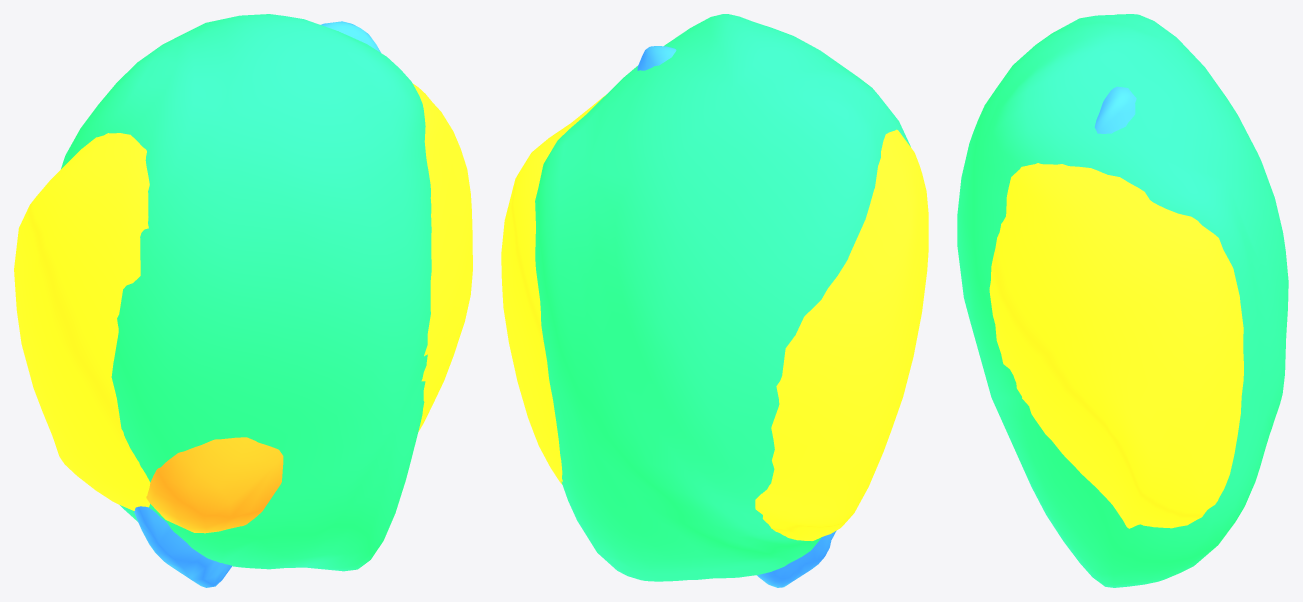
Rendered from stones.glb.
3 views of the same model, side by side, from view 1: azimuth 30°, elevation 25°; view 2: azimuth 150°, elevation 25°; view 3: azimuth 270°, elevation 25° (orthographic). The views are drawn at different scales.
Parts seen in each view (by area): view 1: time_core, mind_core, soul_core, space_core; view 2: time_core, mind_core, space_core; view 3: time_core, mind_core, space_core.
Part boxes in pixels (box(x1,y1,x2,y2)): time_core: box(61, 14, 431, 571); mind_core: box(14, 83, 472, 510); soul_core: box(146, 437, 283, 533); space_core: box(134, 21, 380, 587); time_core: box(535, 14, 910, 581); mind_core: box(501, 94, 928, 540); space_core: box(637, 46, 836, 587); time_core: box(957, 14, 1288, 587); mind_core: box(989, 163, 1243, 528); space_core: box(1094, 86, 1136, 133).
Bounding box in the file's own units: 1.72 × 2.25 × 1.31.
